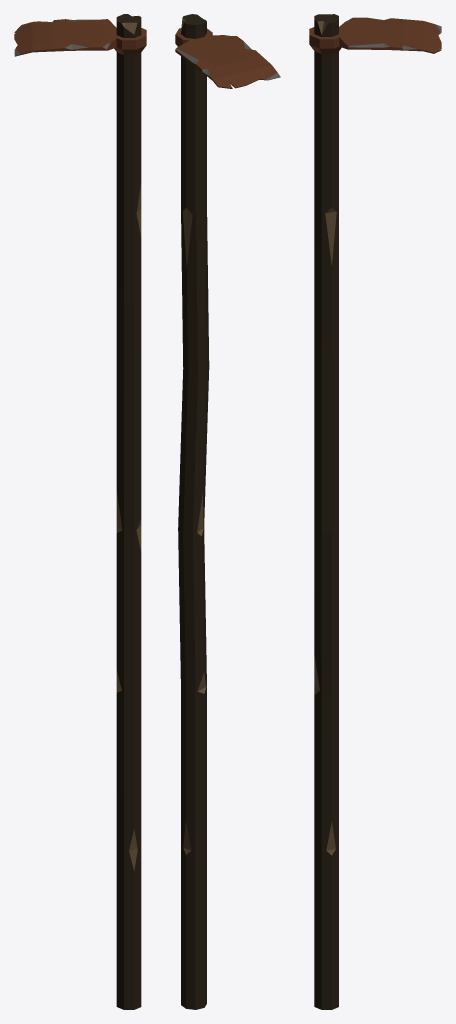
Rendered from SM_Hoe.glb.
The picture shows the model from 3 angles, left to right: view 1: azimuth 90°, elevation 25°; view 2: azimuth 210°, elevation 25°; view 3: azimuth 270°, elevation 25°; orthographic projection.
Visible parts, largest first — view 1: SM_Hoe; view 2: SM_Hoe; view 3: SM_Hoe.
Boxes of the visible parts, x1,y1,x2,y2 form: SM_Hoe: (14, 14, 146, 1009); SM_Hoe: (175, 14, 280, 1009); SM_Hoe: (309, 14, 441, 1009).
Size of the model in its own units: 0.0779 by 1.24 by 0.151.
1 material, 1 textured.
